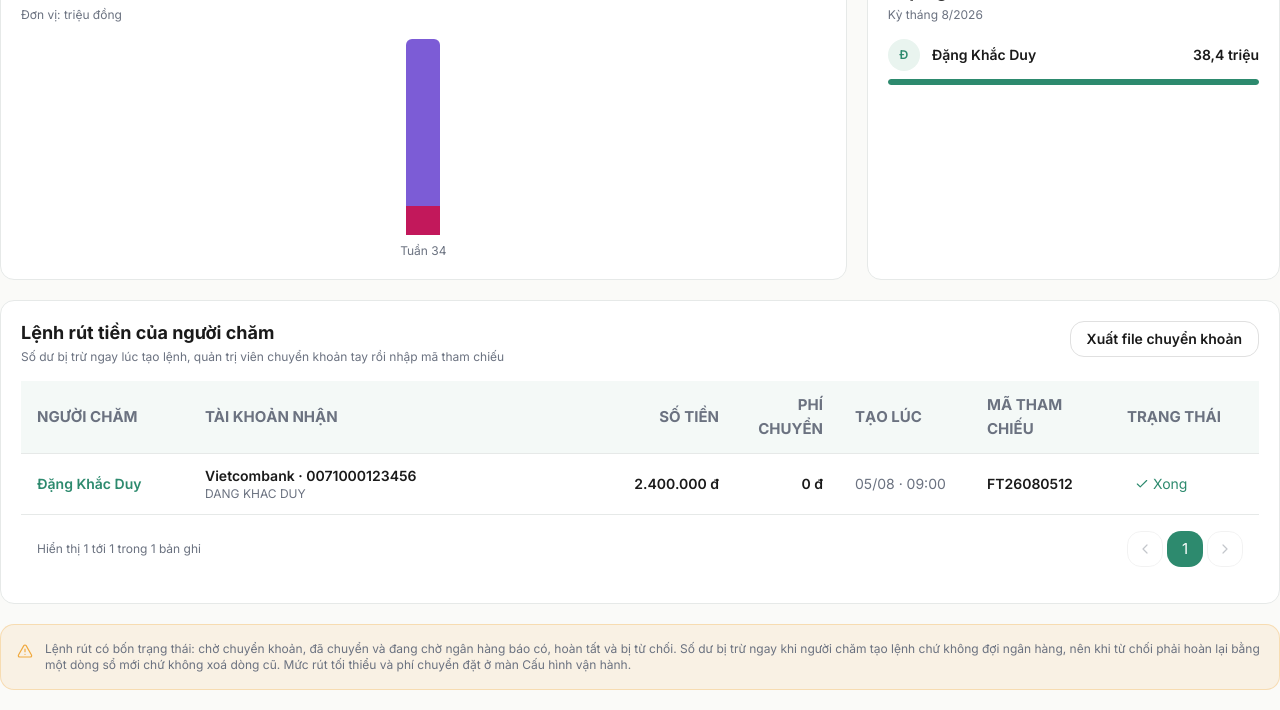
Test: Doanh thu và lệnh rút › lệnh đã đóng chỉ xem lại, không có nút đổi trạng thái nào
(page scrolled)
Click the text "DANG KHAC DUY": (255, 494) [205,486,306,501]
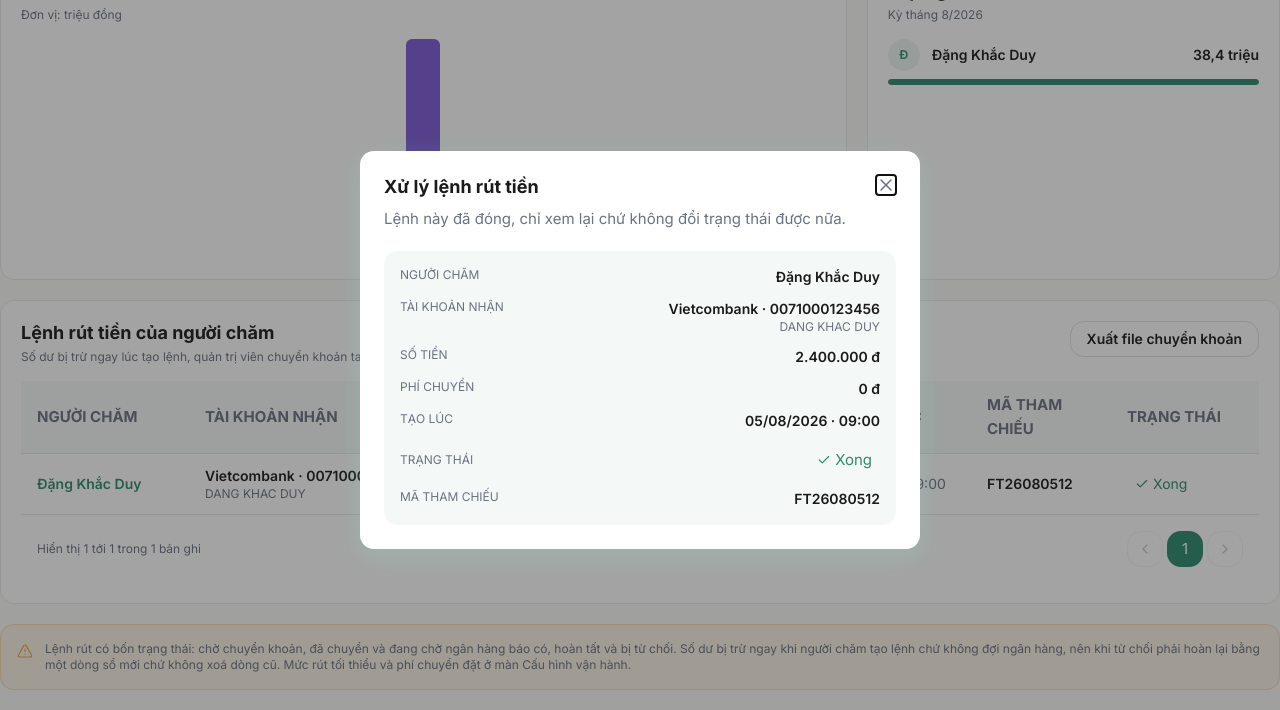
Expected: the text "chỉ xem lại" is shown, [384,209,846,228]
